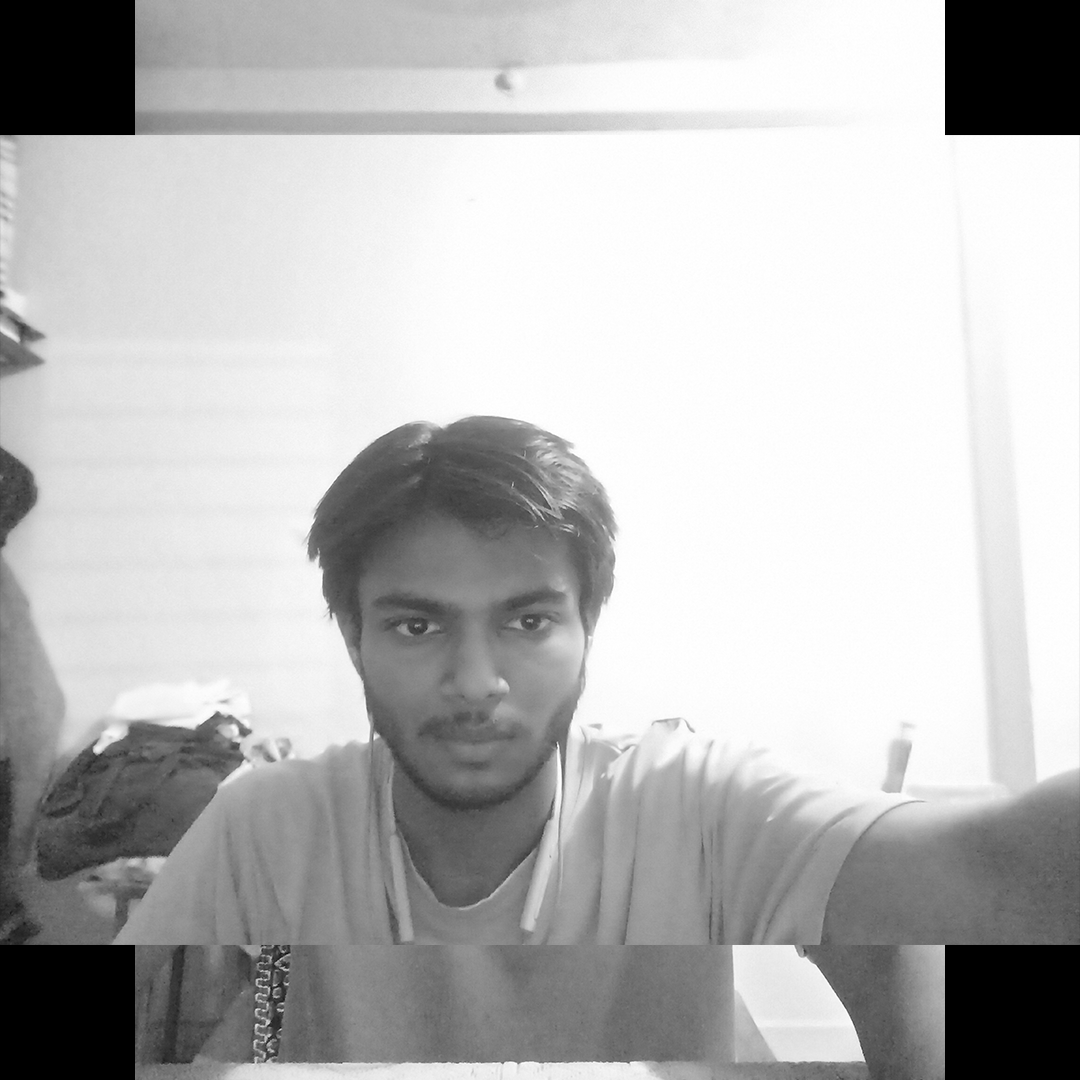Focused: (170, 299, 762, 960)
